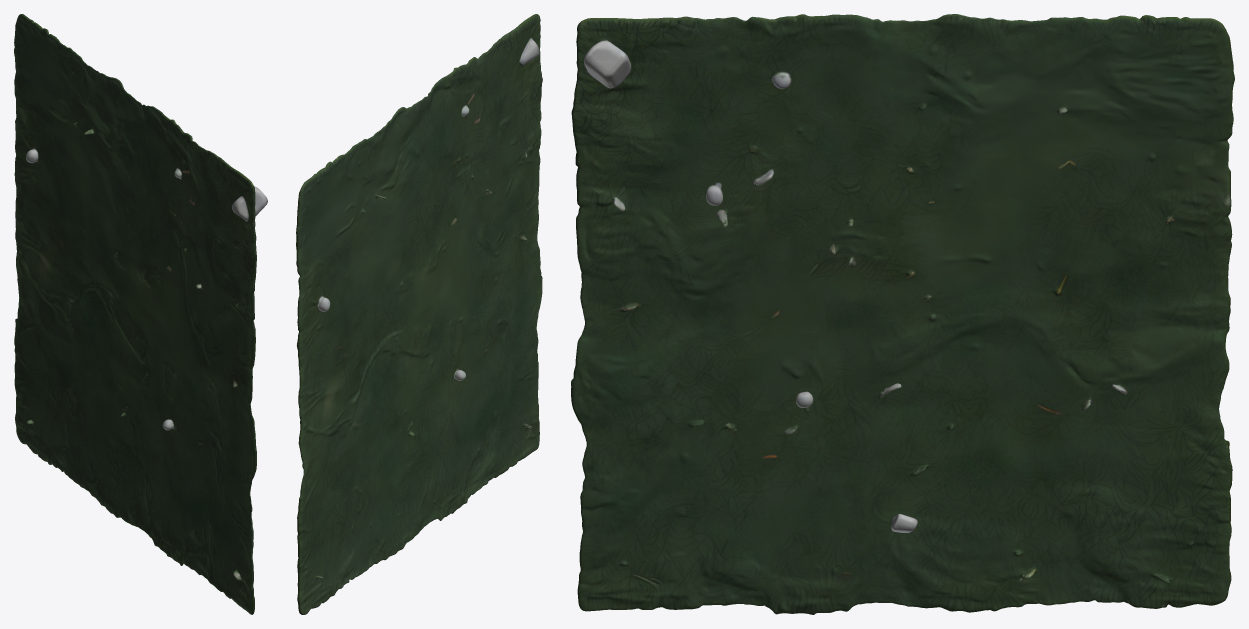
File: forest_floor_tile.glb
3 views of the same model, side by side, from view 1: azimuth 30°, elevation 25°; view 2: azimuth 150°, elevation 25°; view 3: azimuth 270°, elevation 25° (orthographic). The views are drawn at different scales.
Parts seen in each view (by area): view 1: tripo_node_0f6249a6-48a4-40a3-a29a-a0e0b6bcea7c; view 2: tripo_node_0f6249a6-48a4-40a3-a29a-a0e0b6bcea7c; view 3: tripo_node_0f6249a6-48a4-40a3-a29a-a0e0b6bcea7c.
Part boxes in pixels (bbox=[...]): tripo_node_0f6249a6-48a4-40a3-a29a-a0e0b6bcea7c: bbox=[14, 14, 267, 614]; tripo_node_0f6249a6-48a4-40a3-a29a-a0e0b6bcea7c: bbox=[296, 14, 542, 614]; tripo_node_0f6249a6-48a4-40a3-a29a-a0e0b6bcea7c: bbox=[571, 14, 1234, 614].
Bounding box in the file's own units: 0.0794 × 0.9996 × 1.
Materials: 1 (1 with a texture image).
